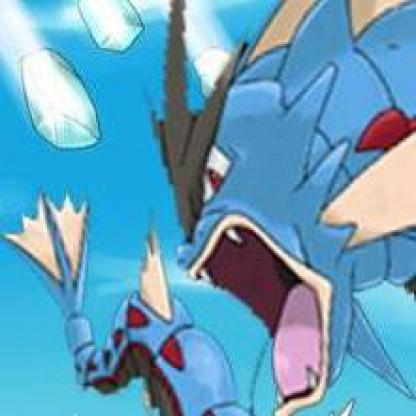Gyarados: (137, 22, 415, 415)
